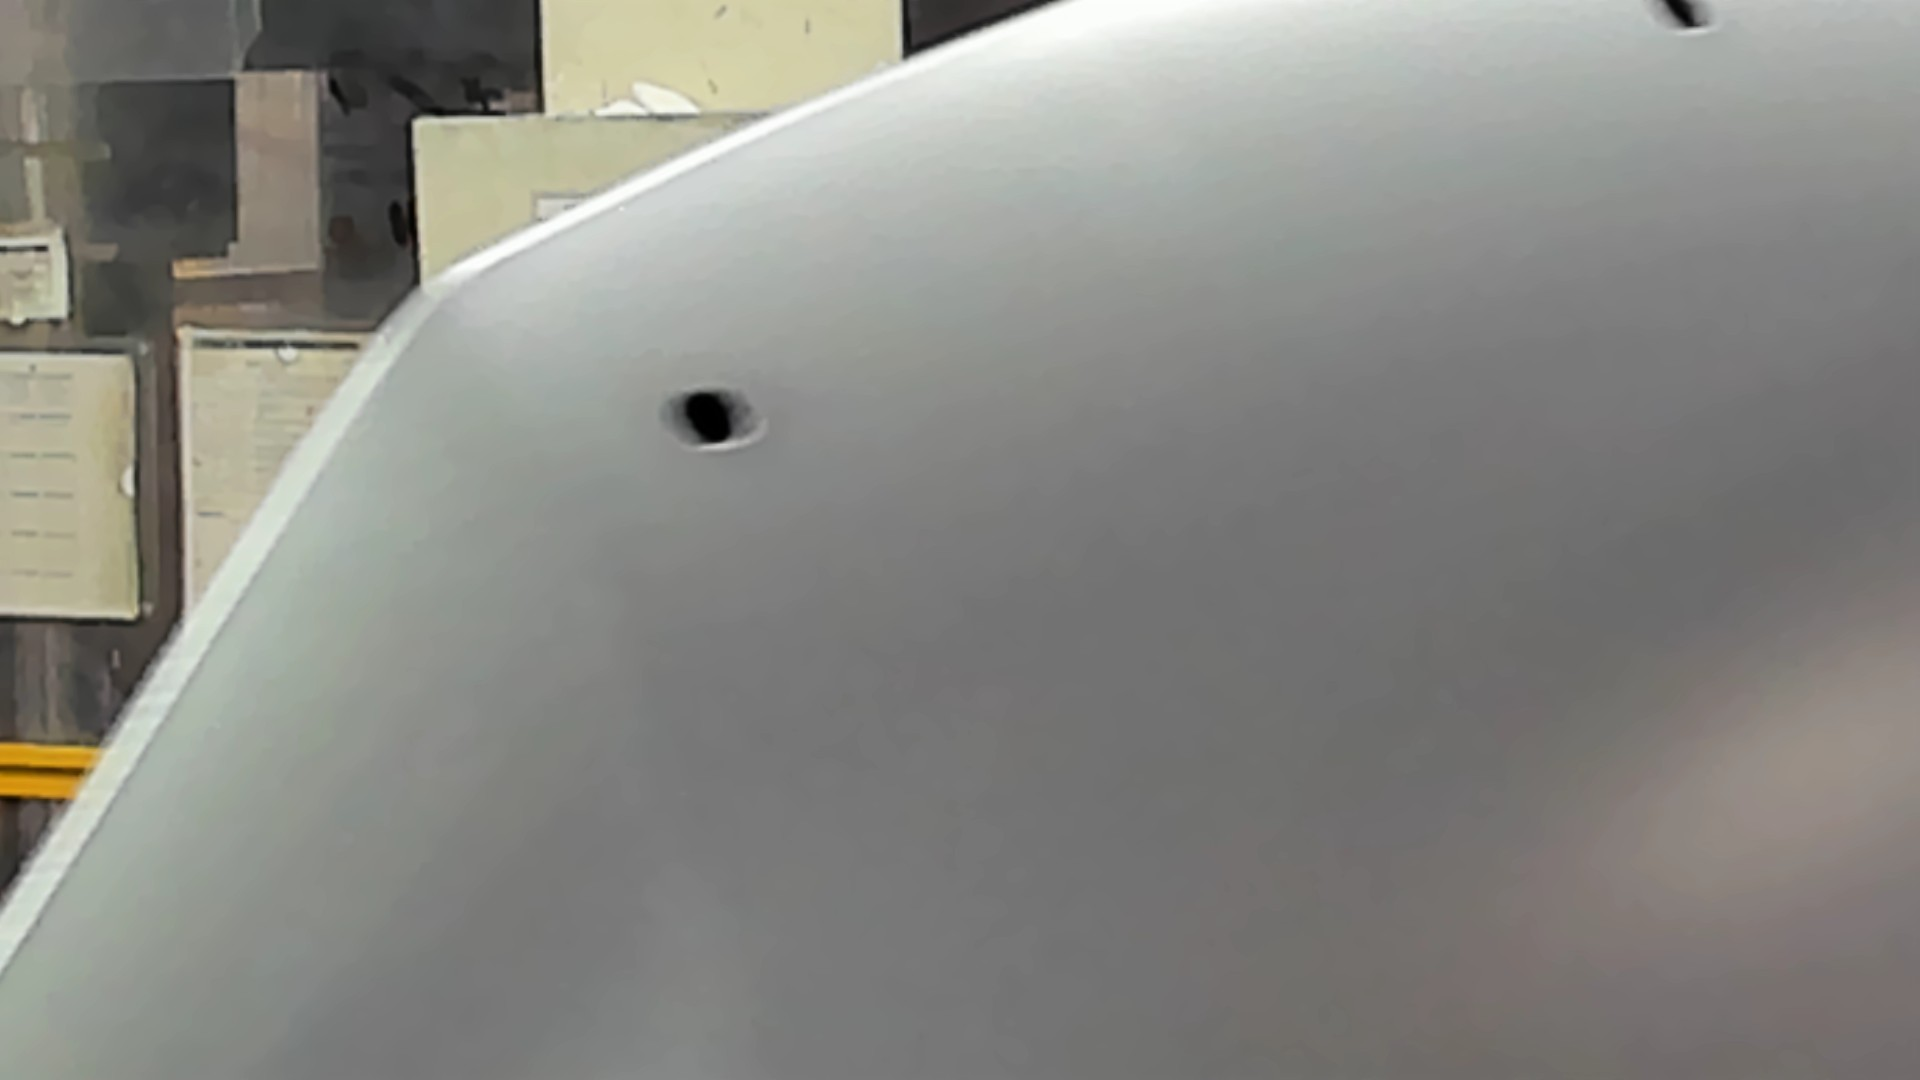amorfo: (647, 373, 778, 459), (1636, 1, 1731, 44)
